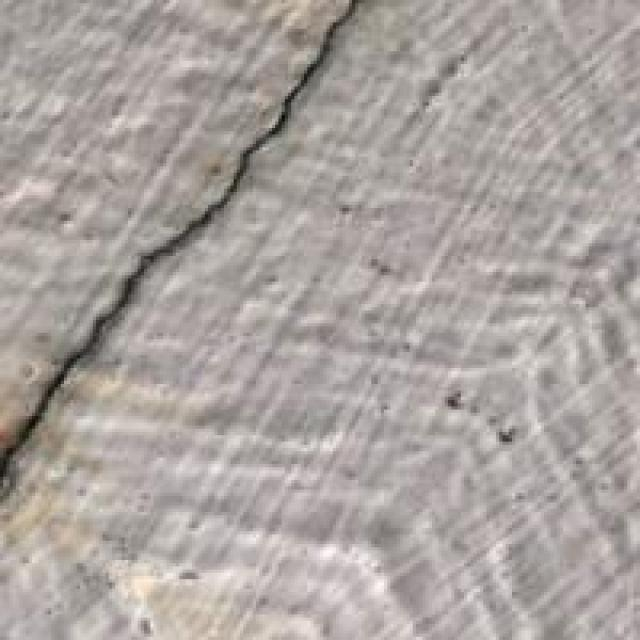crack: (3, 0, 380, 550)
